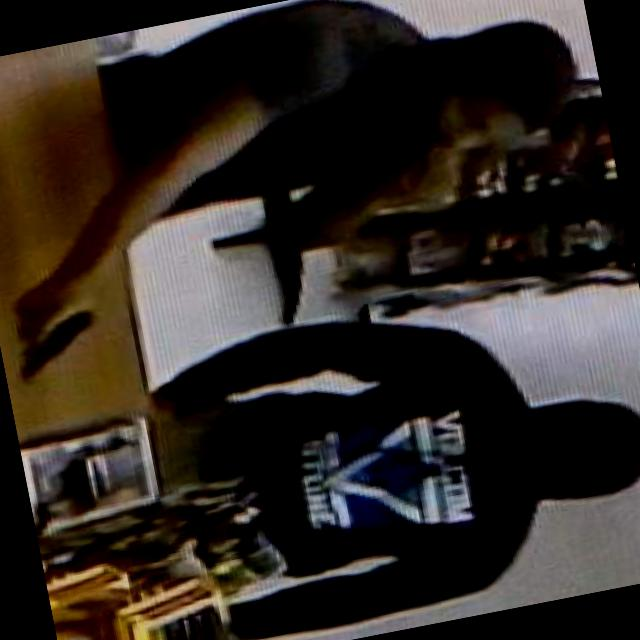handgun: (7, 292, 120, 384)
